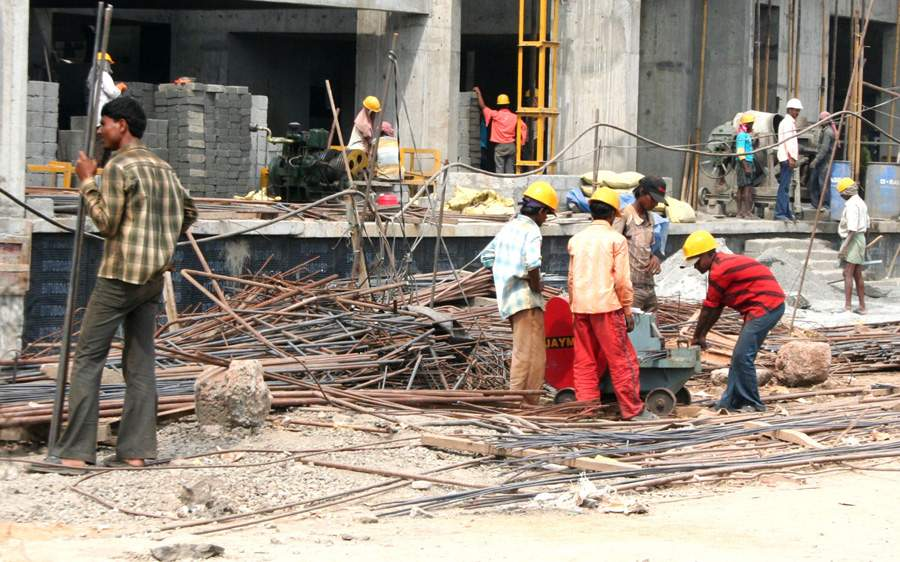safety_helmet: (518, 180, 568, 209), (680, 223, 723, 254), (590, 188, 624, 225), (831, 175, 866, 189), (365, 98, 381, 117), (788, 94, 802, 114), (493, 98, 511, 108), (741, 115, 752, 127)
